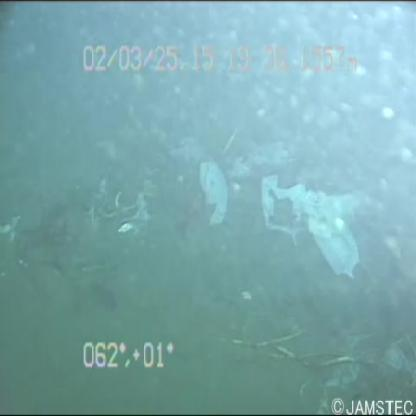Rác: (255, 165, 368, 282), (184, 156, 242, 242)
